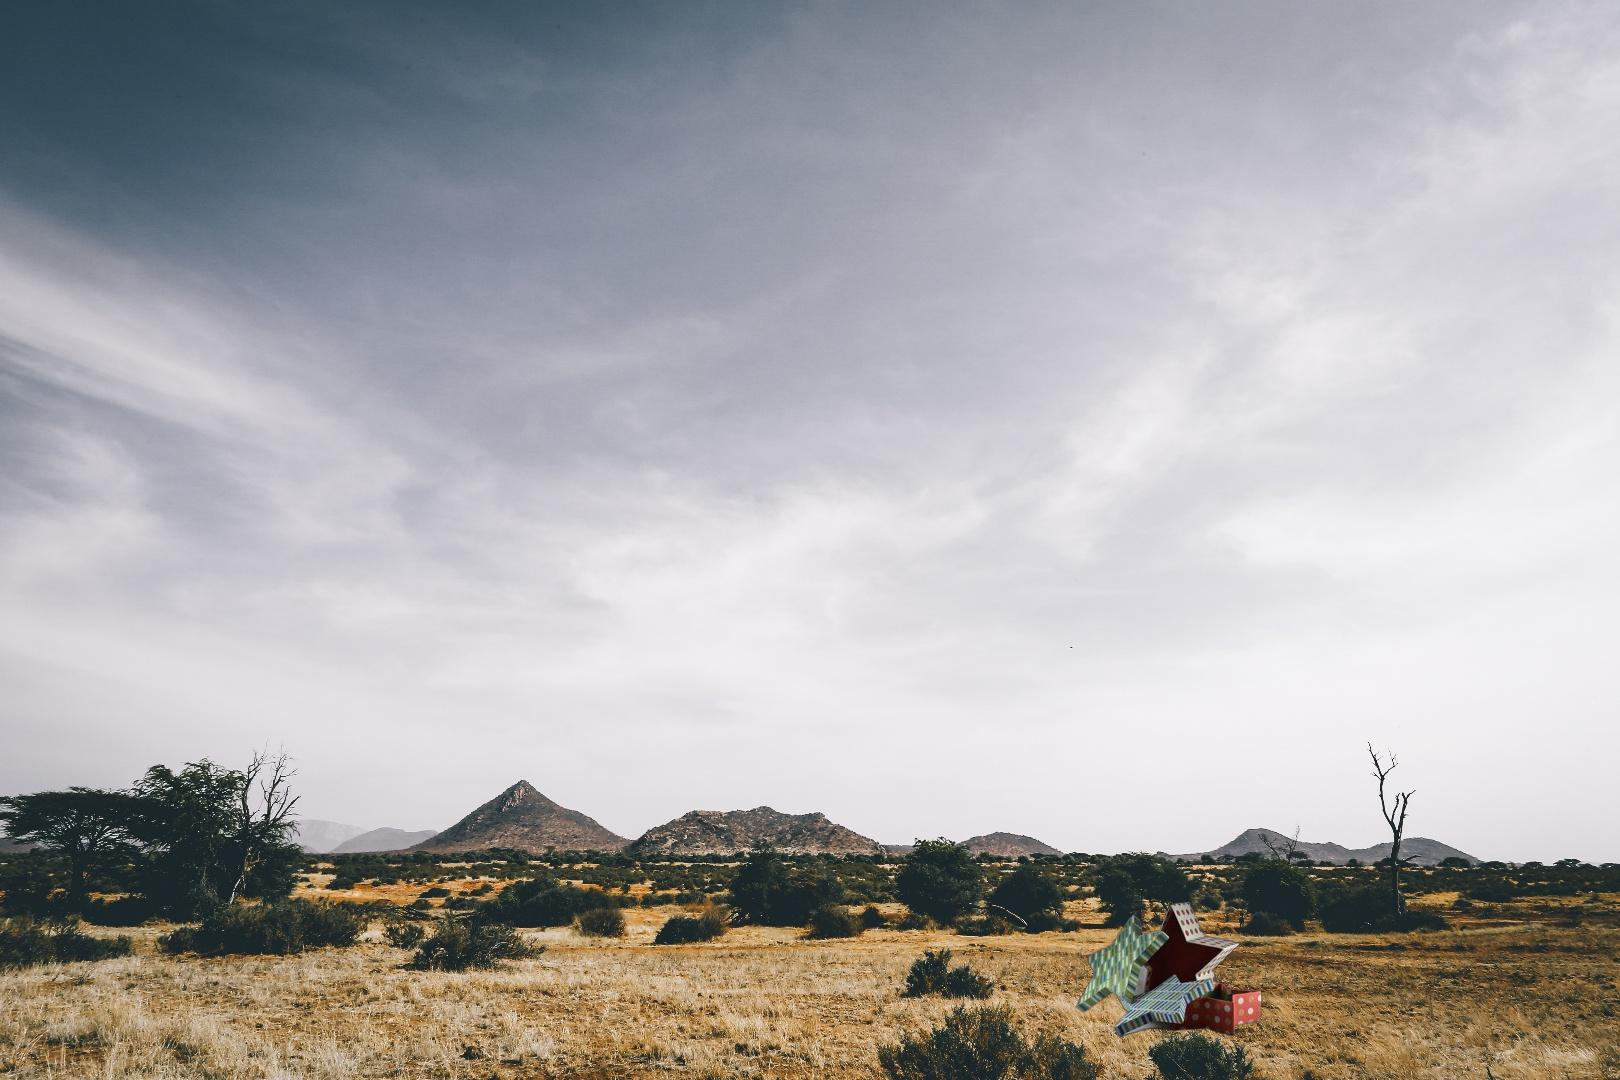trashbox-cardboard: (1073, 899, 1265, 1040)
